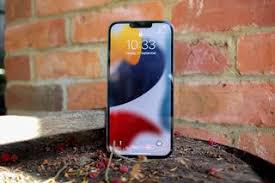Smartphone: (108, 23, 177, 160)
